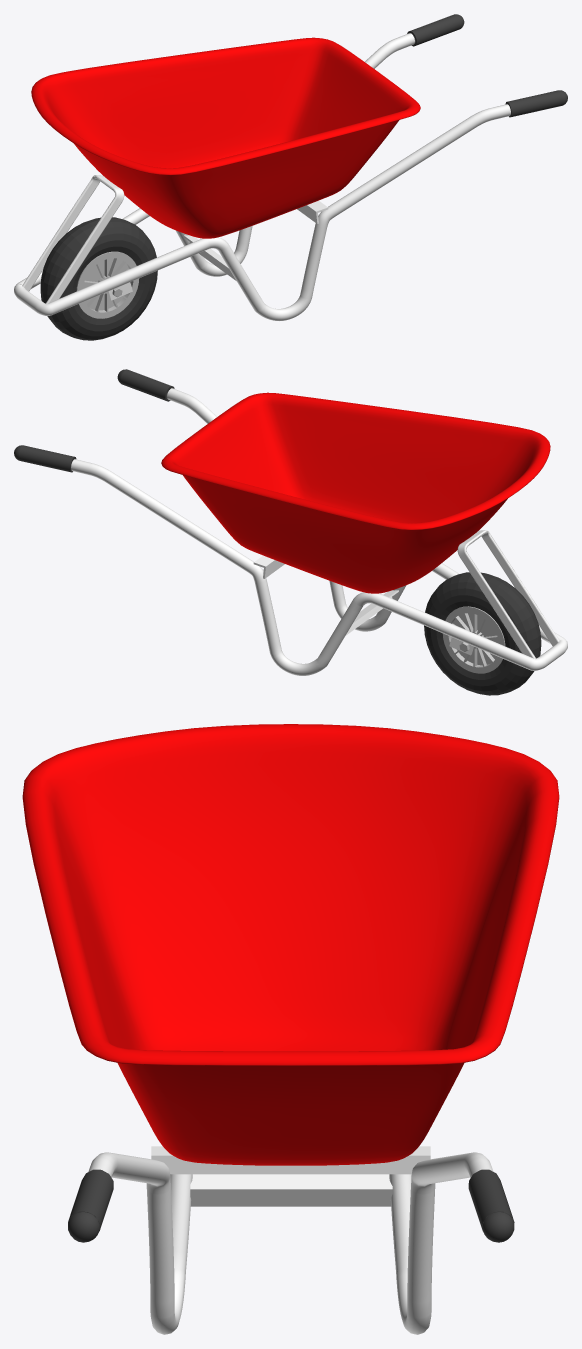
File: carreto.FBX
3 views of the same model, one above another, from view 1: azimuth 30°, elevation 25°; view 2: azimuth 150°, elevation 25°; view 3: azimuth 270°, elevation 25° (orthographic). The views are drawn at different scales.
Visible parts, largest first — view 1: Bucket, Frame/Arms, Tire, Brace 03, Hub 01, Left Handle, Left Handle01, Spokes 01, Brace 02; view 2: Bucket, Frame/Arms, Tire, Brace 03, Hub 02, Left Handle01, Left Handle, Spokes 02, Brace 02; view 3: Bucket, Frame/Arms, Brace 02, Brace 01, Left Handle, Left Handle01, End 02, End 01.
Boxes of the visible parts, <box> form: Bucket: <box>31,37,420,238</box>; Frame/Arms: <box>14,33,510,320</box>; Tire: <box>40,217,157,340</box>; Brace 03: <box>22,175,124,303</box>; Hub 01: <box>76,251,139,318</box>; Left Handle: <box>505,90,562,117</box>; Left Handle01: <box>407,14,461,46</box>; Spokes 01: <box>84,258,131,311</box>; Brace 02: <box>182,235,236,280</box>; Bucket: <box>161,392,550,593</box>; Frame/Arms: <box>71,388,567,675</box>; Tire: <box>424,572,541,695</box>; Brace 03: <box>457,530,559,658</box>; Hub 02: <box>442,606,505,673</box>; Left Handle01: <box>19,445,76,472</box>; Left Handle: <box>120,369,174,401</box>; Spokes 02: <box>450,613,497,666</box>; Brace 02: <box>345,590,398,635</box>; Bucket: <box>22,724,559,1165</box>; Frame/Arms: <box>88,1152,493,1334</box>; Brace 02: <box>190,1174,392,1206</box>; Brace 01: <box>151,1146,430,1174</box>; Left Handle: <box>68,1169,113,1232</box>; Left Handle01: <box>468,1169,514,1237</box>; End 02: <box>482,1212,514,1242</box>; End 01: <box>68,1212,99,1242</box>.
Size of what is drawn, in the model's own units: 62.67 by 26.19 by 29.82.
